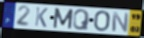2: (15, 5, 31, 28)
K: (34, 6, 49, 29)
M: (52, 8, 75, 30)
N: (111, 11, 130, 33)
O: (94, 10, 112, 32)
Q: (72, 9, 91, 31)
